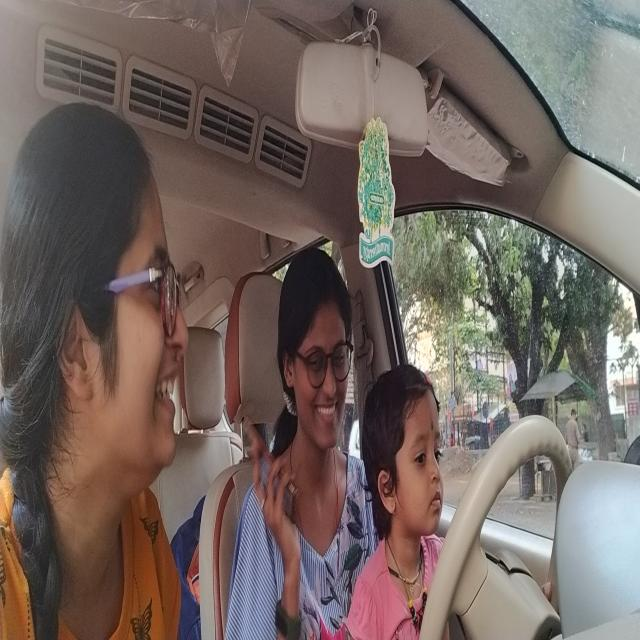child: (362, 344, 453, 579)
mobile: (233, 411, 295, 506)
person: (1, 99, 191, 499), (275, 246, 360, 453)
